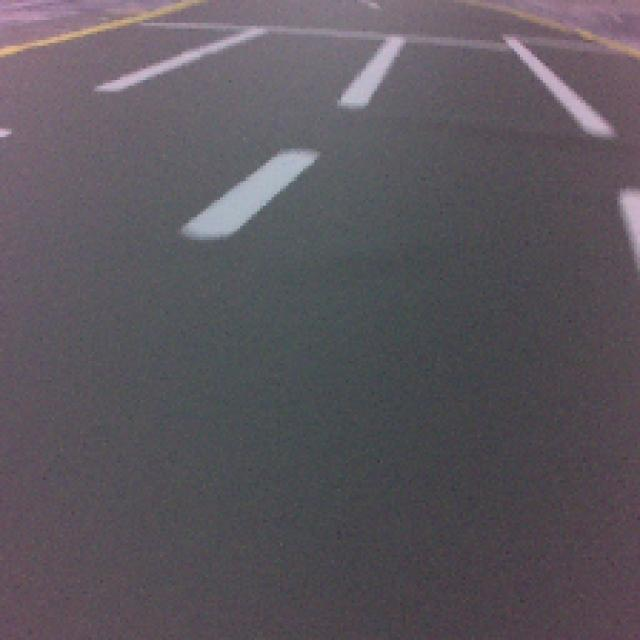Road: (0, 388, 640, 640)
